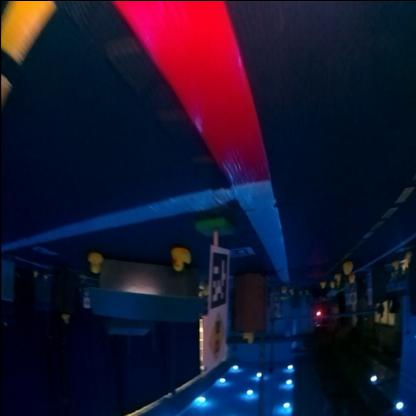Duckie: (171, 247, 191, 270), (88, 251, 102, 273), (342, 262, 352, 274)
QR code: (211, 252, 227, 310), (229, 246, 253, 258)
Signal sign: (207, 314, 226, 360)
